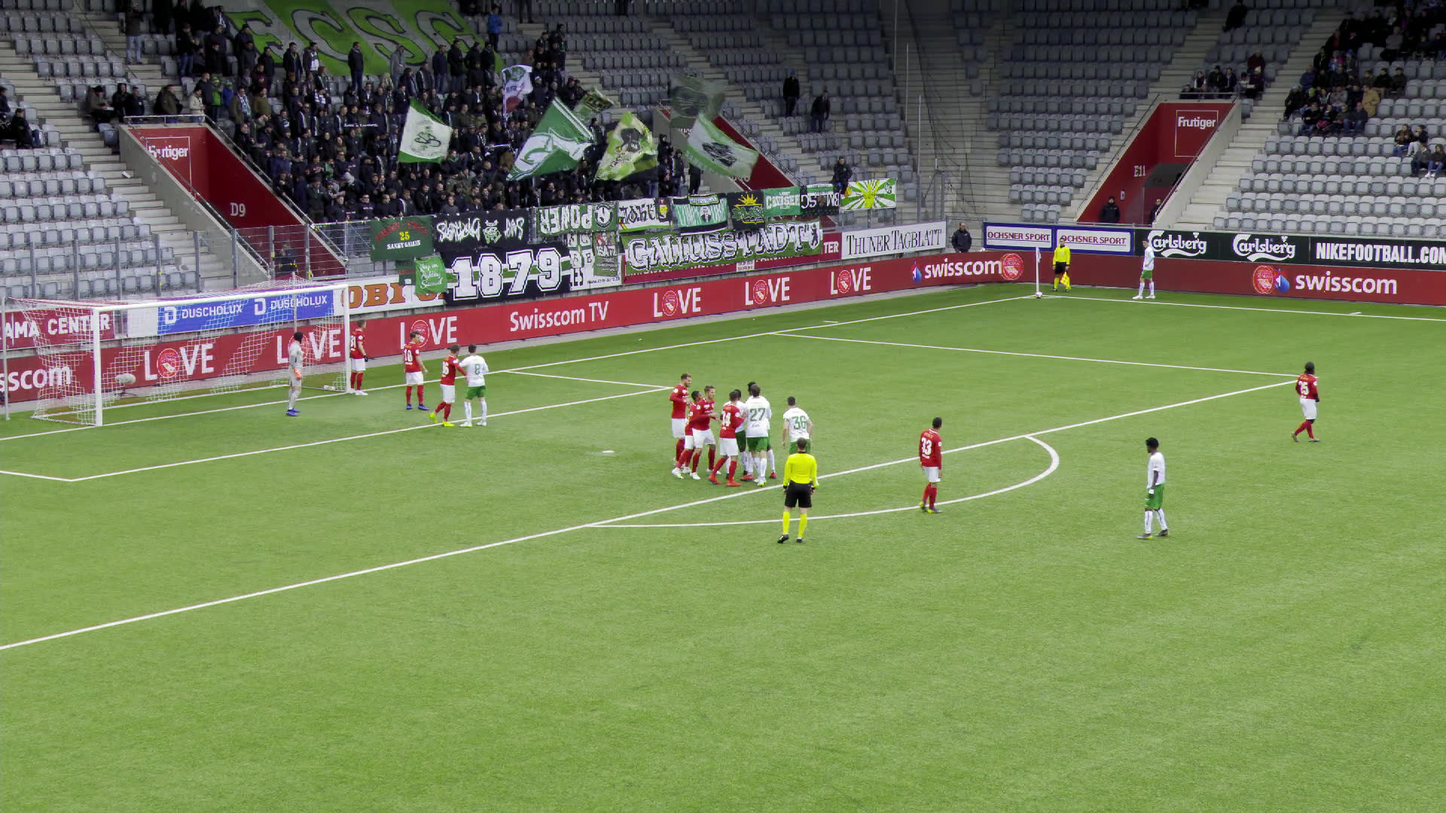ball: (1035, 291, 1042, 298)
player: (740, 380, 776, 480), (709, 390, 746, 486), (781, 396, 819, 488), (1136, 437, 1170, 539), (688, 385, 721, 480), (432, 344, 468, 428), (917, 415, 947, 513), (742, 383, 770, 486), (457, 343, 491, 425), (1291, 361, 1325, 442), (676, 389, 704, 479), (401, 327, 429, 412), (667, 373, 691, 467), (282, 331, 308, 416), (720, 387, 744, 476), (348, 317, 369, 397), (1132, 238, 1156, 299)
referee: (777, 436, 819, 544), (1051, 236, 1071, 292)
